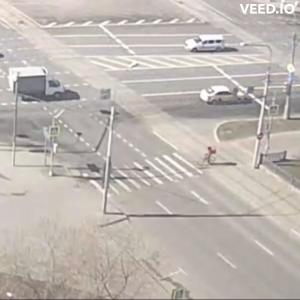car: (9, 66, 70, 102), (201, 86, 249, 107), (186, 37, 225, 54)
